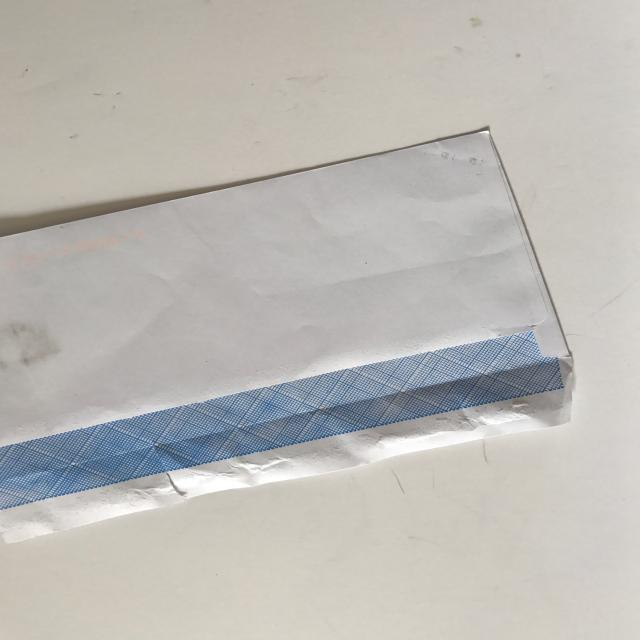paper: (0, 116, 601, 553)
